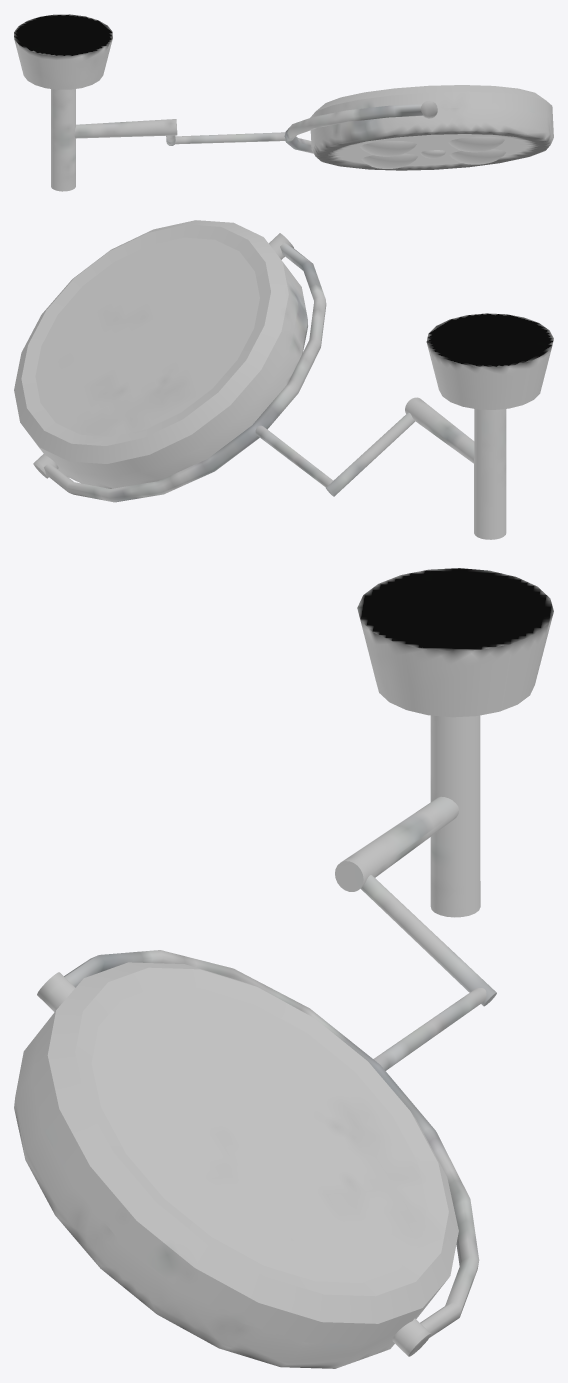
File: surgical_lamp.4b76089f3a.glb
3 renders of one model, top to bottom at view 1: azimuth 30°, elevation 25°; view 2: azimuth 150°, elevation 25°; view 3: azimuth 270°, elevation 25°, orthographic. The views are drawn at different scales.
Parts seen in each view (by area): view 1: surgical_lamp; view 2: surgical_lamp; view 3: surgical_lamp.
Part boxes in pixels (x1=…): surgical_lamp: x1=14, y1=14, x2=553, y2=191; surgical_lamp: x1=14, y1=220, x2=553, y2=539; surgical_lamp: x1=14, y1=568, x2=553, y2=1368.
Bounding box in the file's own units: 1.65 × 0.7044 × 0.8509.
1 material, 1 textured.
